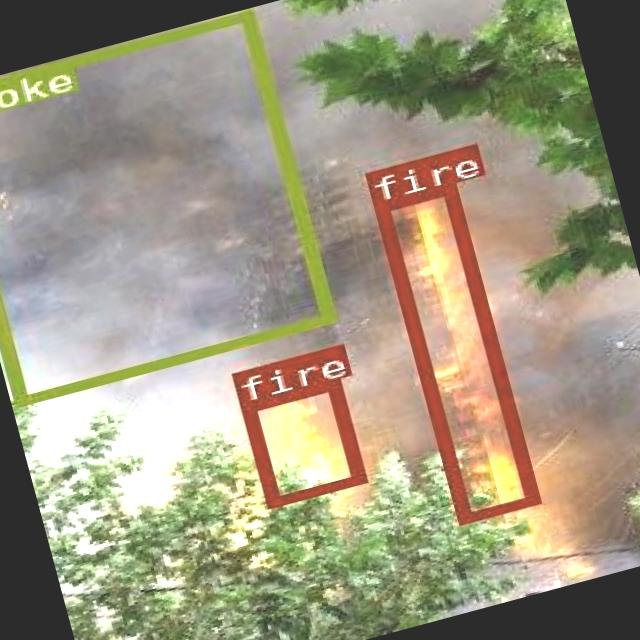fire: (371, 182, 538, 522), (238, 377, 364, 507)
smoke: (0, 9, 331, 405)
